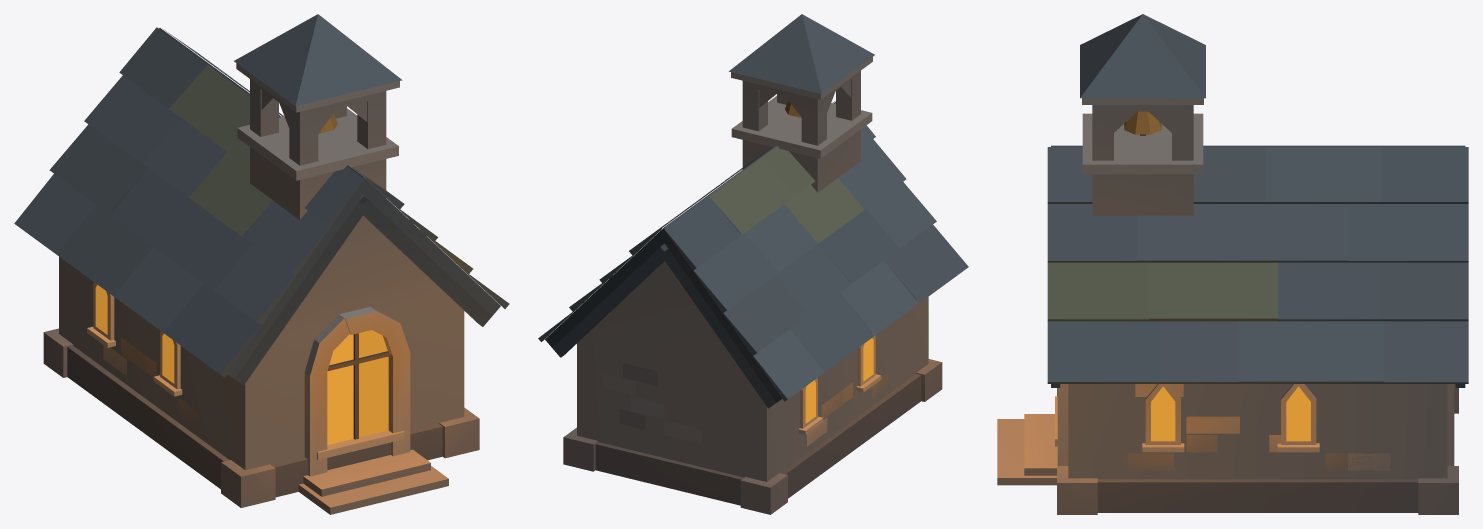
The model's file is church.glb.
3 views of the same model, side by side, from view 1: azimuth 30°, elevation 25°; view 2: azimuth 150°, elevation 25°; view 3: azimuth 270°, elevation 25° (orthographic). The views are drawn at different scales.
Visible parts, largest first — view 1: lit, glow; view 2: lit, glow; view 3: lit, glow.
Part boxes in pixels (bbox=[...]): lit: bbox=[14, 14, 509, 514]; glow: bbox=[95, 285, 388, 444]; lit: bbox=[538, 14, 968, 514]; glow: bbox=[805, 338, 873, 423]; lit: bbox=[997, 14, 1468, 514]; glow: bbox=[1151, 386, 1310, 441].
Bounding box in the file's own units: 5.05 × 7.2 × 6.96.
